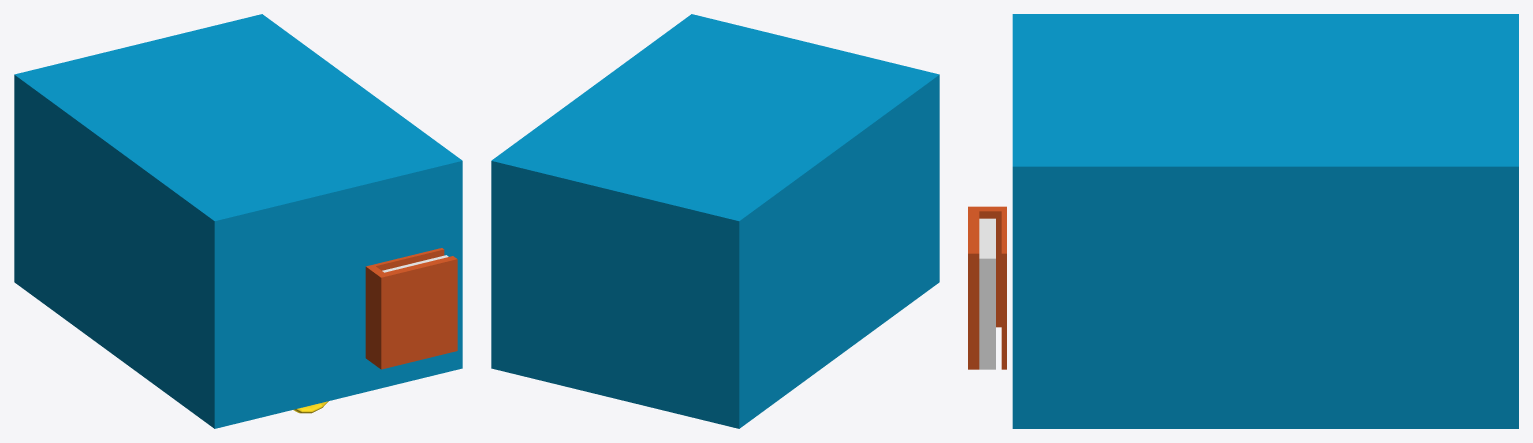
The model's file is tinker.obj.
The picture shows the model from 3 angles, left to right: view 1: azimuth 30°, elevation 25°; view 2: azimuth 150°, elevation 25°; view 3: azimuth 270°, elevation 25°; orthographic projection. The views are drawn at different scales.
Visible parts, largest first — view 1: group_0_40919, group_0_14900002; view 2: group_0_40919; view 3: group_0_40919, group_0_14900002, group_0_16448250.
Boxes of the visible parts, x1=… form: group_0_40919: x1=14, y1=14, x2=462, y2=428; group_0_14900002: x1=365, y1=248, x2=457, y2=369; group_0_40919: x1=491, y1=14, x2=939, y2=428; group_0_40919: x1=1012, y1=14, x2=1518, y2=428; group_0_14900002: x1=968, y1=206, x2=1006, y2=369; group_0_16448250: x1=979, y1=218, x2=995, y2=369.
Size of the model in its own units: 65 by 61 by 99.
